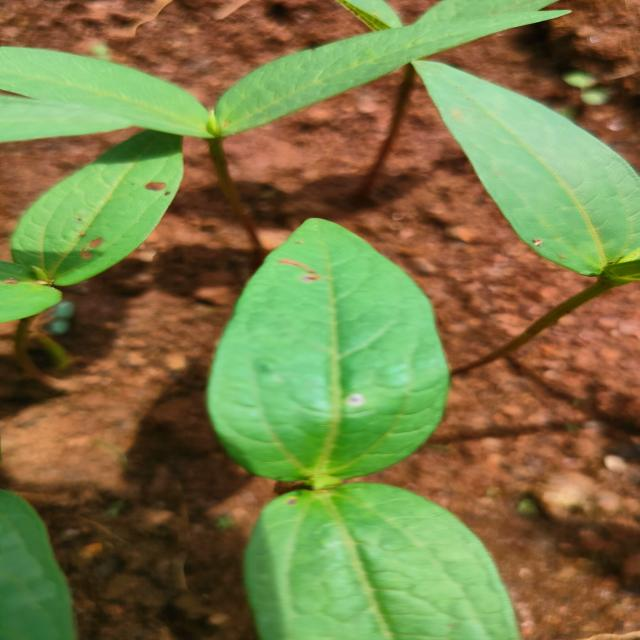Black gram_healthy: (213, 218, 444, 487), (406, 53, 640, 274), (202, 5, 596, 133), (247, 478, 526, 640), (9, 132, 181, 284), (1, 37, 216, 142)
